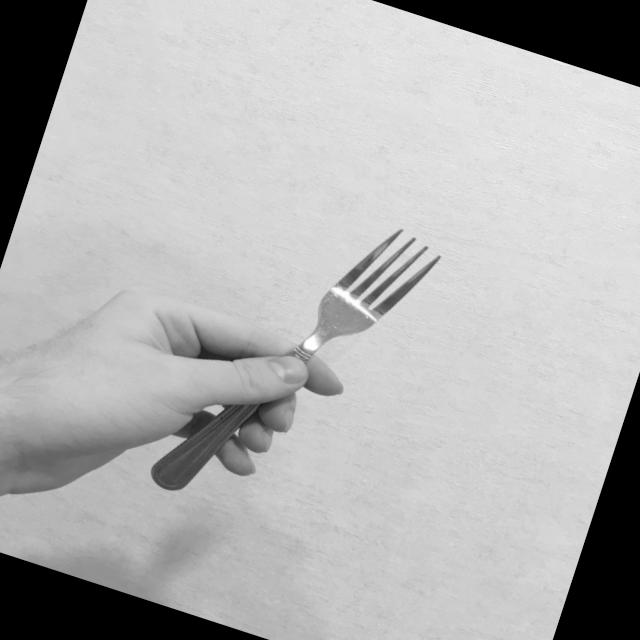fork: (145, 178, 447, 548)
